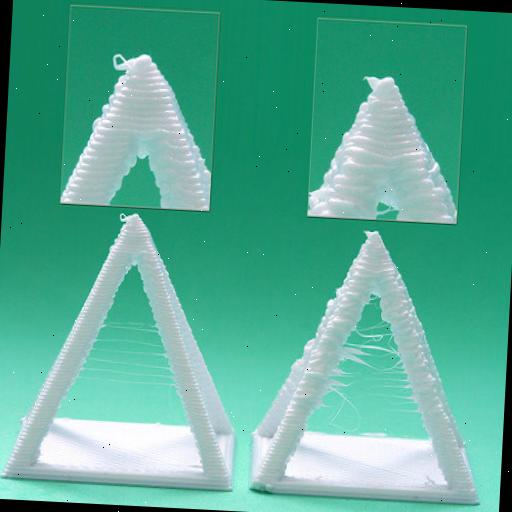stringing: (321, 318, 424, 451)
